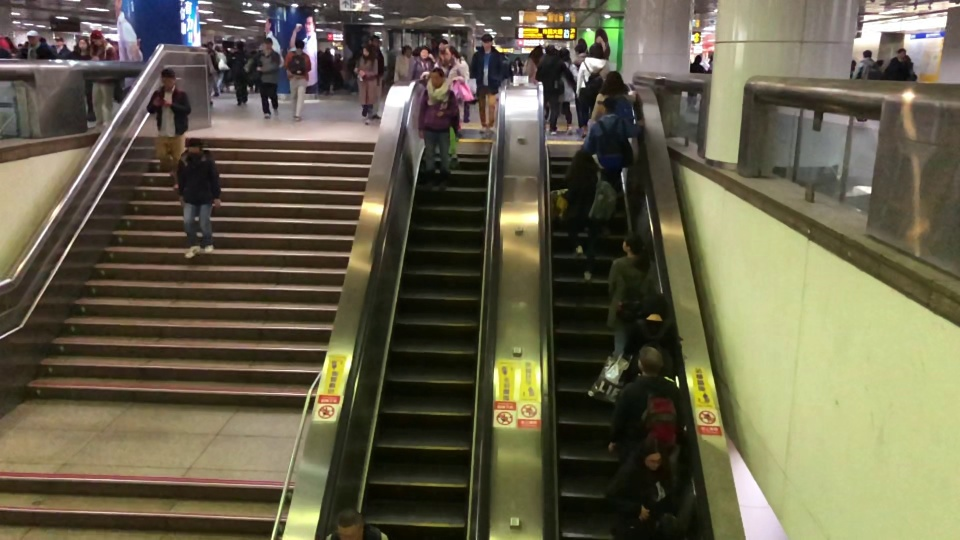person_head: (335, 508, 366, 540), (640, 437, 665, 473), (637, 345, 664, 375), (643, 291, 668, 317), (570, 148, 594, 173), (620, 231, 643, 255), (185, 136, 204, 160), (604, 70, 623, 92), (160, 66, 177, 90), (596, 96, 616, 115), (90, 28, 107, 50), (430, 65, 446, 88), (587, 42, 605, 59), (439, 46, 451, 66), (26, 29, 40, 46), (480, 33, 494, 49), (558, 47, 571, 63), (77, 37, 90, 51), (530, 44, 543, 58), (401, 43, 413, 58), (895, 47, 907, 61), (369, 33, 380, 47), (262, 37, 273, 50), (294, 38, 305, 51), (419, 46, 429, 59), (54, 36, 65, 47), (545, 45, 556, 55), (362, 45, 371, 56), (235, 40, 244, 50), (862, 49, 872, 58)
person_vbox: (608, 345, 687, 488), (560, 148, 616, 282), (606, 229, 657, 364), (582, 96, 645, 199), (606, 439, 672, 532), (175, 136, 223, 258), (418, 67, 463, 190), (146, 67, 191, 189), (622, 293, 677, 381), (420, 46, 465, 140), (535, 44, 576, 135), (576, 41, 611, 137), (469, 33, 501, 134), (88, 29, 116, 127), (588, 70, 637, 125), (282, 39, 311, 120), (69, 36, 96, 122), (252, 36, 280, 118), (554, 47, 578, 134), (354, 45, 378, 125), (227, 41, 252, 105), (368, 35, 386, 119), (16, 30, 57, 60), (883, 45, 913, 80), (851, 49, 883, 81), (410, 47, 436, 79), (393, 43, 413, 83), (525, 45, 544, 83), (48, 35, 73, 59)
